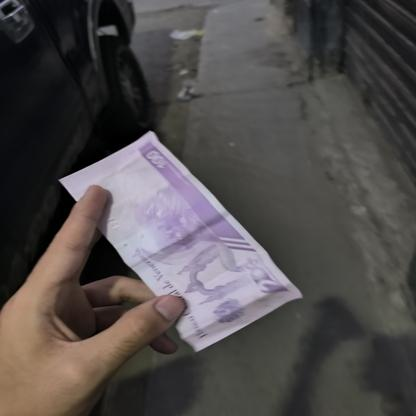one_hundred-back-vef: (57, 130, 302, 354)
